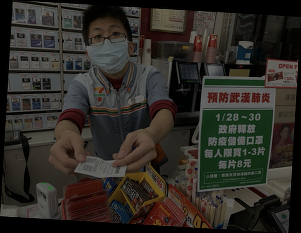with_mask: (85, 22, 133, 75)
